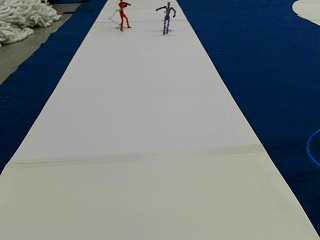pedestrian: (155, 1, 175, 33), (116, 0, 131, 30)
